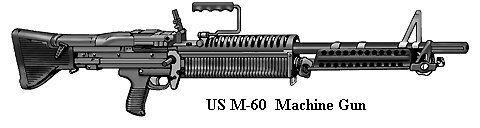rifle: (11, 15, 469, 117)
